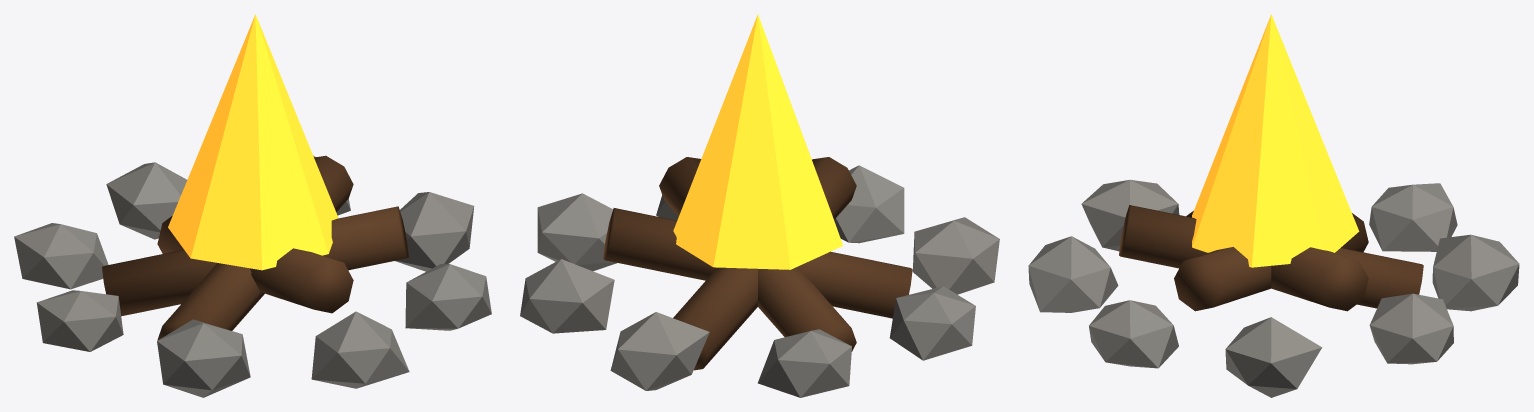
Rendered from campfire.glb.
The picture shows the model from 3 angles, left to right: view 1: azimuth 30°, elevation 25°; view 2: azimuth 150°, elevation 25°; view 3: azimuth 270°, elevation 25°; orthographic projection.
Parts seen in each view (by area): view 1: Campfire; view 2: Campfire; view 3: Campfire.
Part boxes in pixels (<box>): Campfire: <box>14,14,491,397</box>; Campfire: <box>520,14,999,397</box>; Campfire: <box>1028,14,1519,397</box>.
Bounding box in the file's own units: 1.24 × 0.8301 × 1.23.
